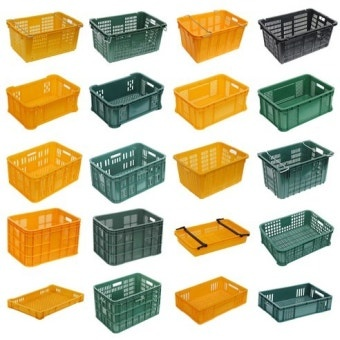plastic: (88, 141, 167, 203)
